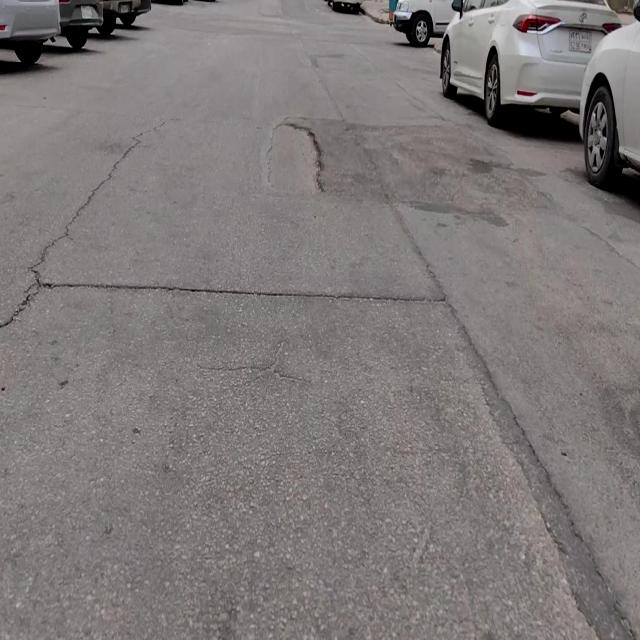Potholes: (266, 121, 325, 199)
